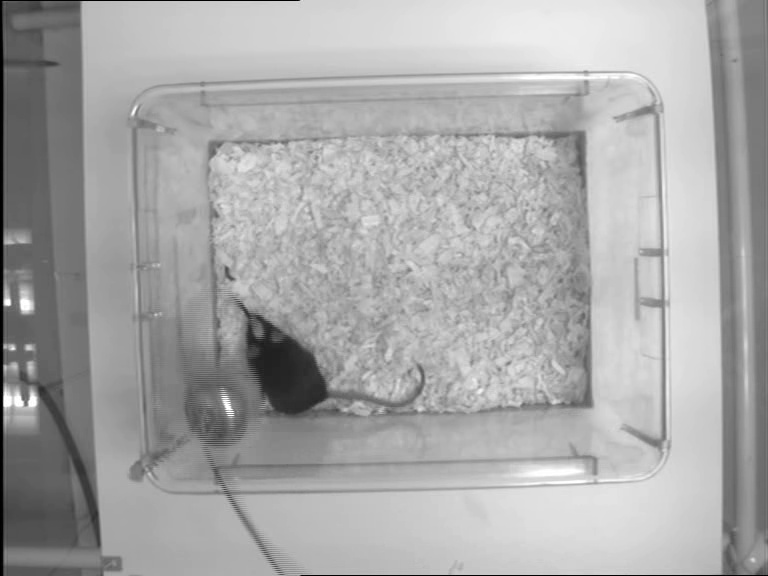mice: (246, 308, 427, 411)
